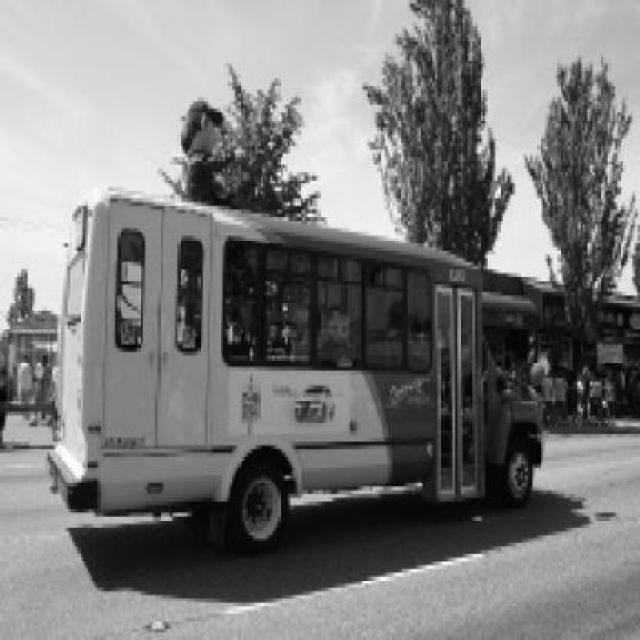Bus- Small: (47, 187, 546, 557)
